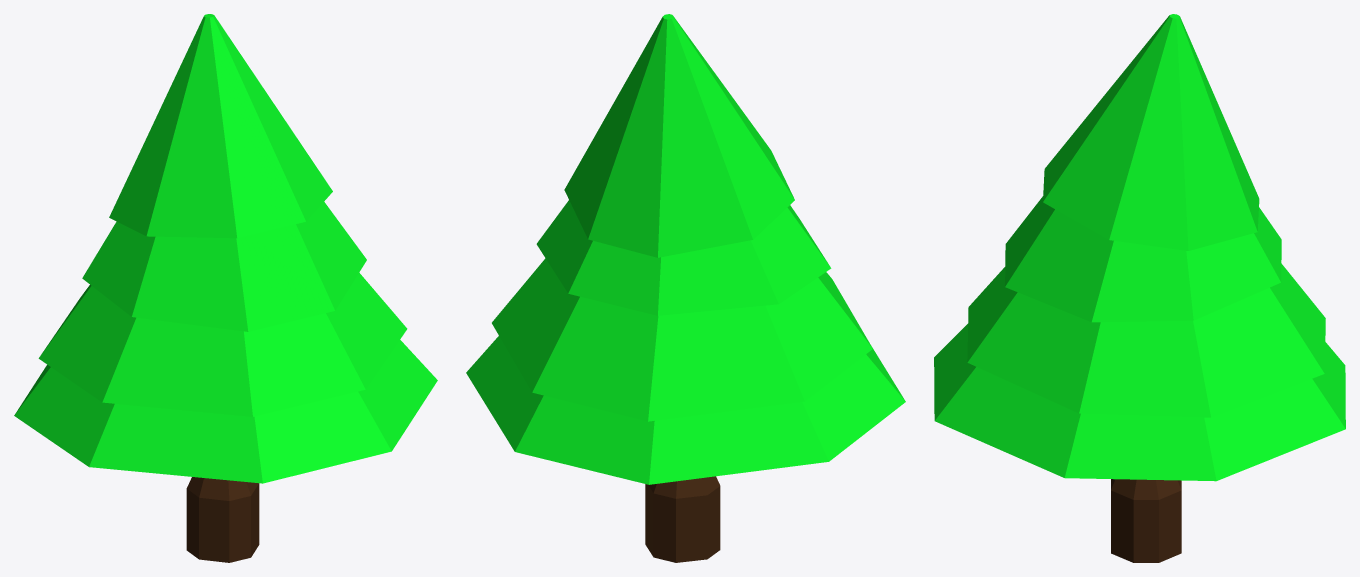
The model's file is Tree.obj.
The picture shows the model from 3 angles, left to right: view 1: azimuth 30°, elevation 25°; view 2: azimuth 150°, elevation 25°; view 3: azimuth 270°, elevation 25°; orthographic projection. The views are drawn at different scales.
Parts seen in each view (by area): view 1: Cube; view 2: Cube; view 3: Cube.
Boxes of the visible parts, bbox=[...] form: Cube: bbox=[14, 14, 437, 562]; Cube: bbox=[466, 14, 905, 562]; Cube: bbox=[934, 14, 1345, 562].
Bounding box in the file's own units: 2.81 × 4 × 2.81.
